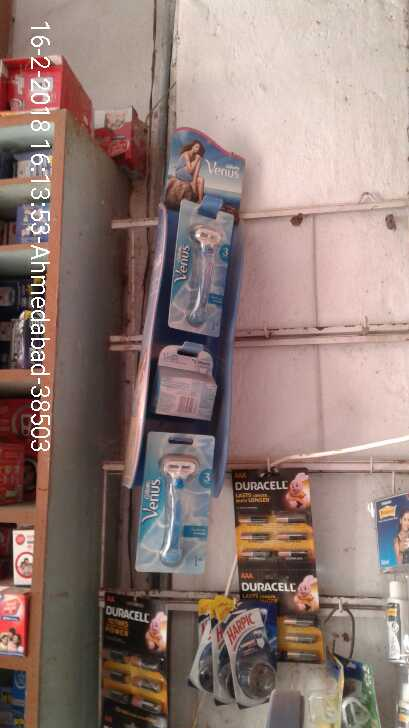venus: (136, 433, 210, 574), (168, 197, 227, 335)
